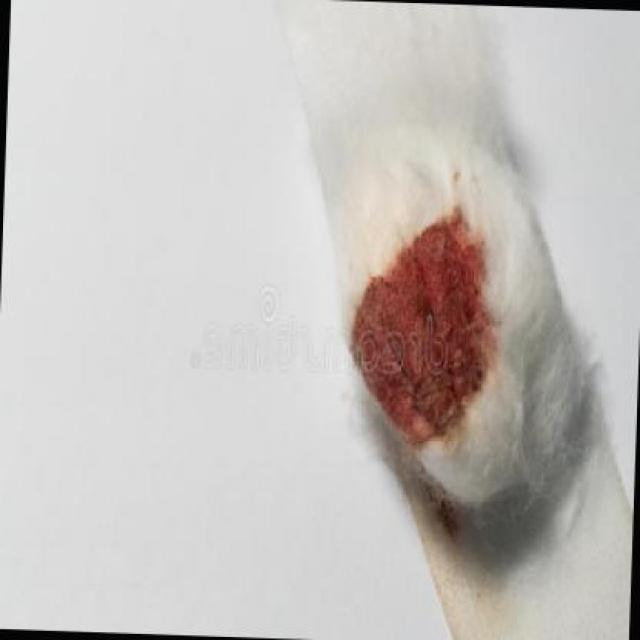wound: (340, 189, 510, 442)
